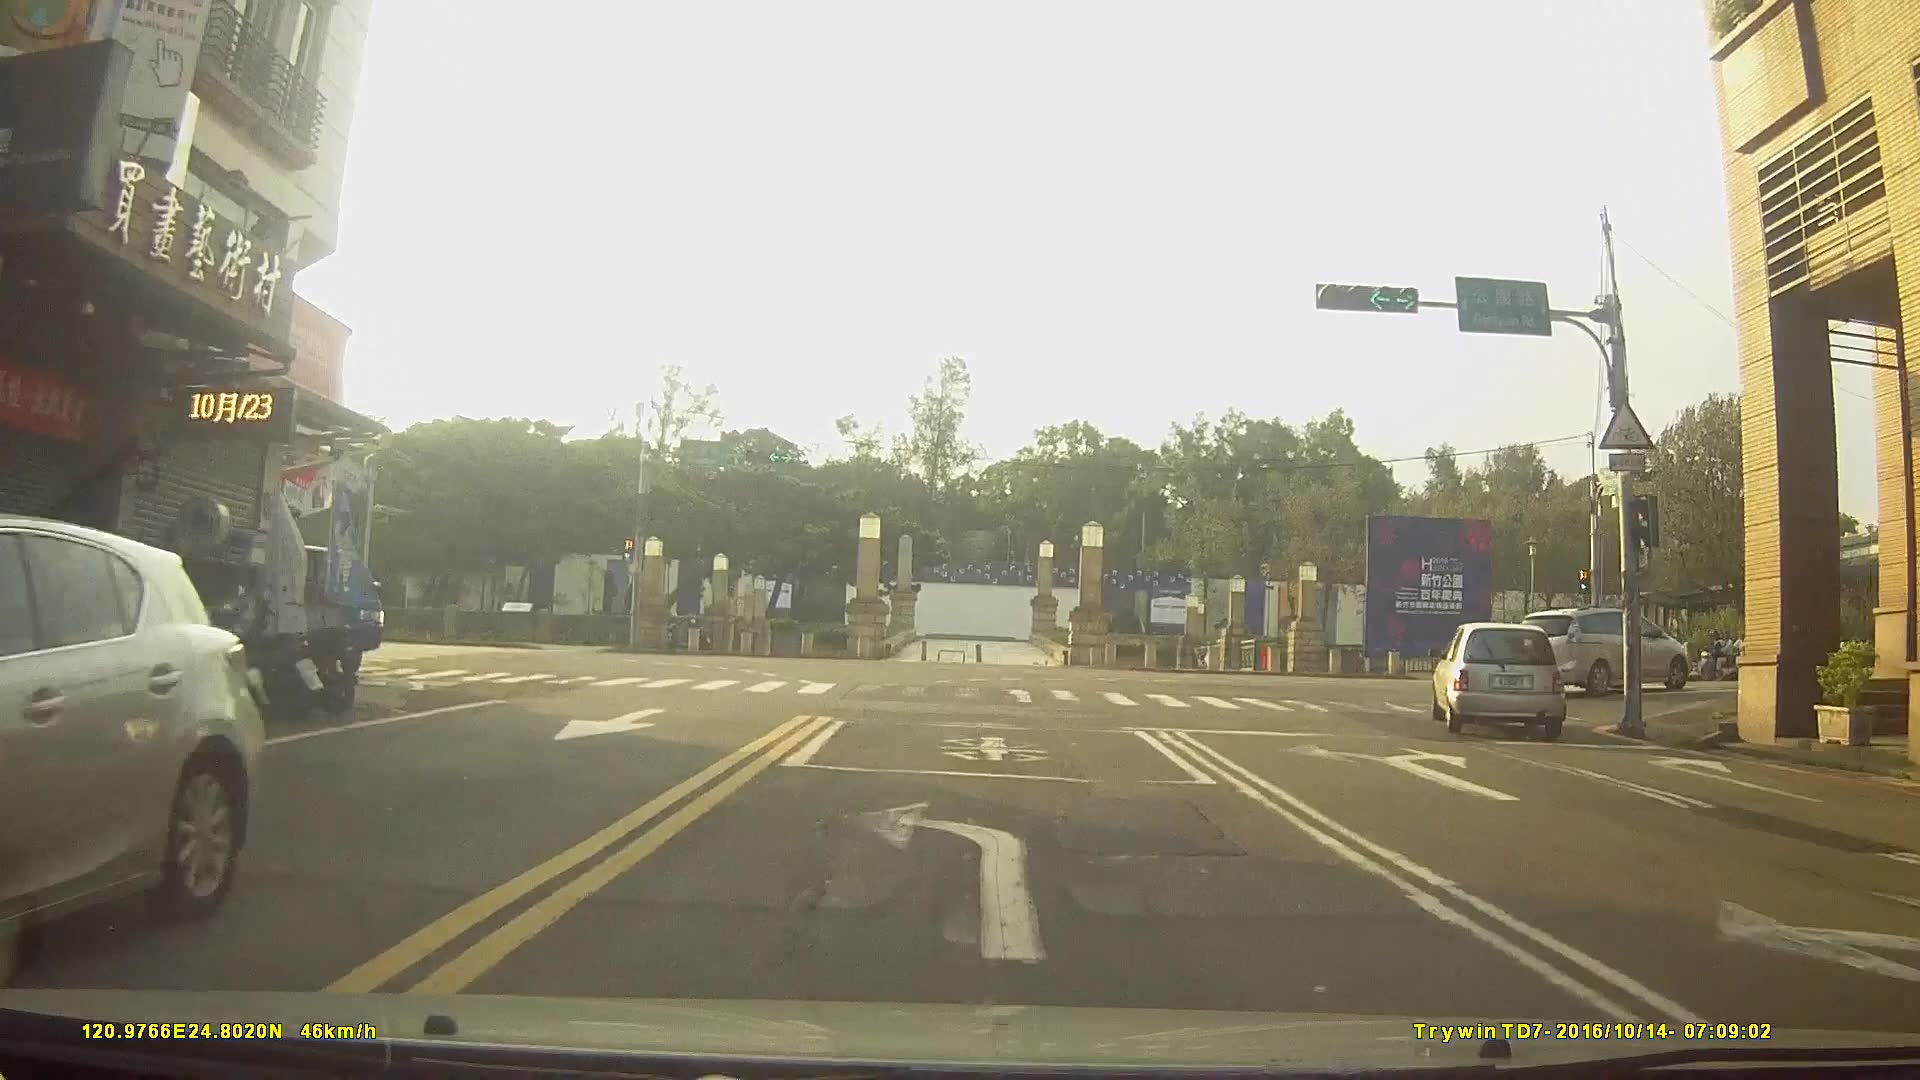vehicle: (0, 512, 265, 945), (1429, 618, 1569, 738), (1519, 605, 1691, 698)
